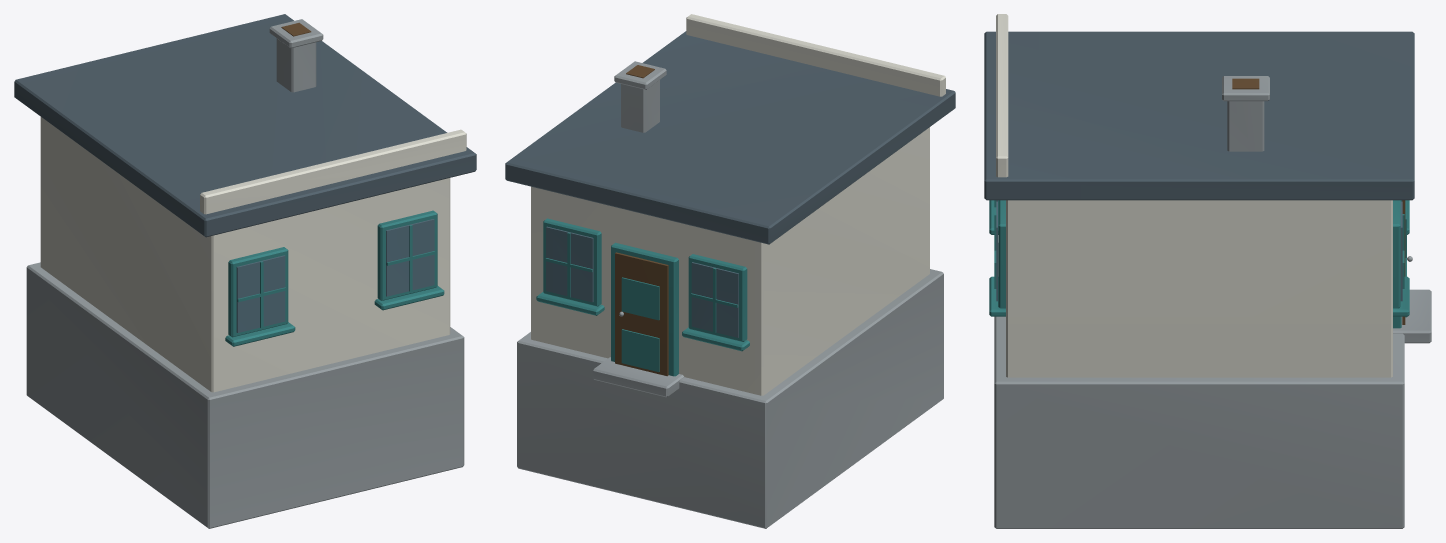
Rendered from house-new.glb.
3 renders of one model, left to right at view 1: azimuth 30°, elevation 25°; view 2: azimuth 150°, elevation 25°; view 3: azimuth 270°, elevation 25°, orthographic. The views are drawn at different scales.
Visible parts, largest first — view 1: stone foundation, house walls, flat overhanging roof, window glass, door frame; view 2: stone foundation, flat overhanging roof, house walls, door frame, window glass, chimney opening; view 3: house walls, flat overhanging roof, stone foundation, door frame, chimney opening.
Part boxes in pixels (bbox=[...]): stone foundation: bbox=[26, 19, 464, 528]; house walls: bbox=[40, 117, 466, 392]; flat overhanging roof: bbox=[14, 14, 476, 237]; window glass: bbox=[236, 219, 434, 332]; door frame: bbox=[225, 210, 444, 346]; stone foundation: bbox=[517, 61, 943, 528]; flat overhanging roof: bbox=[505, 31, 955, 244]; house walls: bbox=[531, 14, 945, 395]; door frame: bbox=[536, 218, 749, 376]; window glass: bbox=[546, 226, 738, 337]; chimney opening: bbox=[615, 65, 668, 376]; house walls: bbox=[996, 14, 1392, 377]; flat overhanging roof: bbox=[984, 31, 1414, 200]; stone foundation: bbox=[994, 76, 1431, 528]; door frame: bbox=[989, 200, 1409, 328]; chimney opening: bbox=[1232, 78, 1405, 324].
Size of the model in its own units: 4.56 by 5.92 by 5.78.
